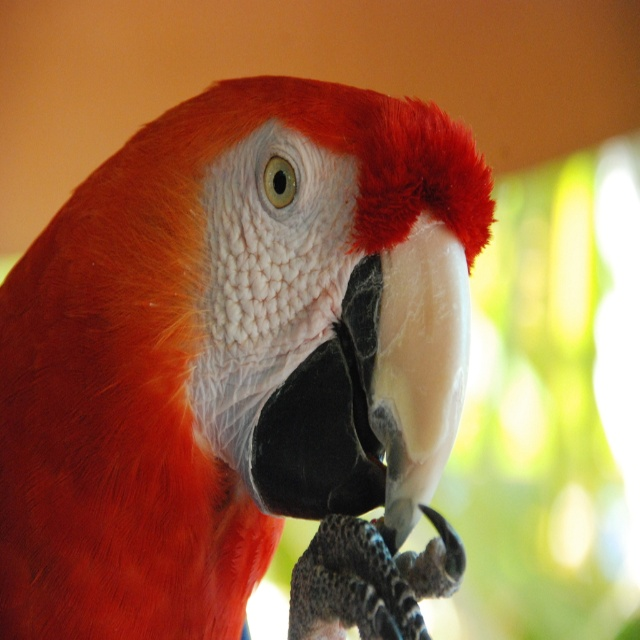Parrot: (0, 75, 499, 640)
